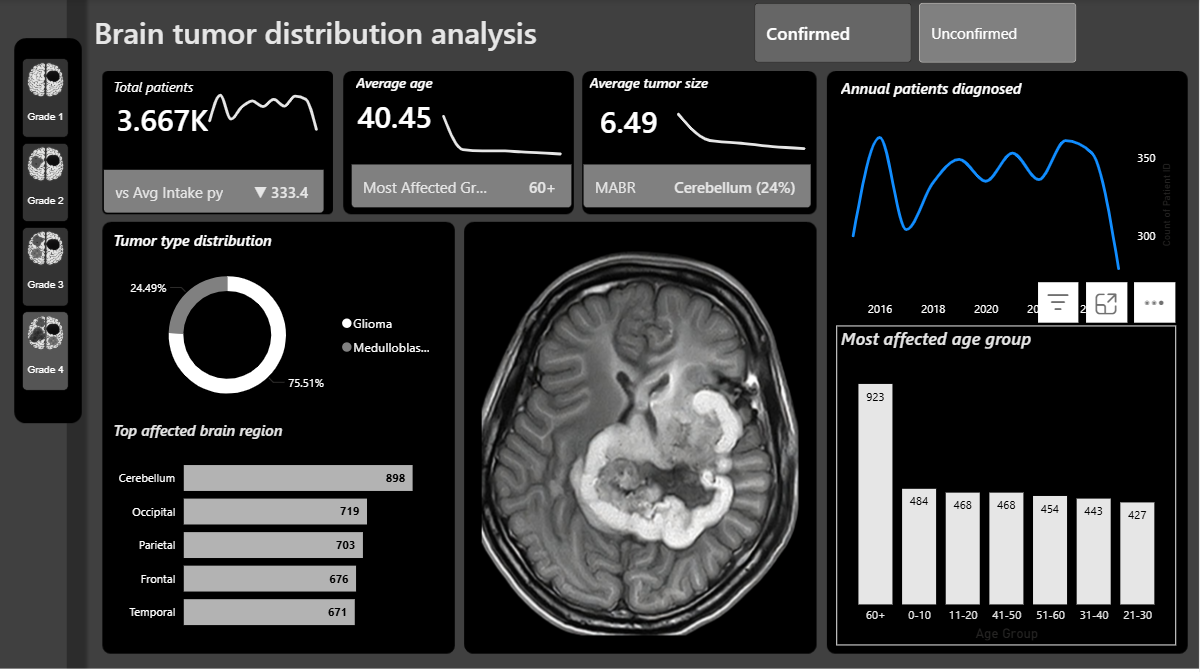

The page's visual inventory and layout, read from the dashboard file:
{"tool":"powerbi","page":{"name":"Page 1","canvas":[1280,720],"ordinal":0},"visuals":[{"type":"lineChart","fields":{"Category":["Brain Tumor Data.Date of Diagnosis.Variation.Date Hierarchy.Year"],"Y":["CountNonNull(Brain Tumor Data.Patient ID)"]},"box":[210,74,144,85],"z":0},{"type":"cardVisual","fields":{"Data":["Count(Brain Tumor Data.Patient ID)"]},"box":[97,79,187,97],"z":1000},{"type":"cardVisual","fields":{"Data":["Count(Brain Tumor Data.Patient ID)"]},"box":[82.6,84.5,292.9,173],"z":2000},{"type":"textbox","box":[118,78.6,202.5,55],"z":3000},{"type":"cardVisual","fields":{"Data":["Avg(Brain Tumor Data.Age)"]},"box":[353.9,74.7,188.7,98.3],"z":4000},{"type":"lineChart","fields":{"Y":["CountNonNull(Brain Tumor Data.Patient ID)"],"Category":["Brain Tumor Data.Age Group"]},"box":[460,106.2,151.4,68.8],"z":5000},{"type":"cardVisual","fields":{"Data":["Count(Brain Tumor Data.Patient ID)"]},"box":[348,78.6,292.9,173],"z":6000},{"type":"textbox","box":[375.5,74.7,292.9,59],"z":7000},{"type":"cardVisual","fields":{"Data":["Avg(Brain Tumor Data.Tumor Size (cm))"]},"box":[611.4,76.7,188.7,104.2],"z":8000},{"type":"lineChart","fields":{"Category":["Brain Tumor Data.Affected Brain Region"],"Y":["Sum(Brain Tumor Data.Tumor Size (cm))"]},"box":[705.8,106.2,171,68.8],"z":9000},{"type":"cardVisual","fields":{"Data":["Count(Brain Tumor Data.Patient ID)"]},"box":[595.7,78.6,300.8,173],"z":10000},{"type":"textbox","box":[625.2,74.7,232,59],"z":11000},{"type":"advancedSlicerVisual","fields":{"Values":["Brain Tumor Data.Histology Confirmation"]},"box":[800.2,0,355.8,74.7],"z":12000},{"type":"ChicletSlicer1448559807354","fields":{"Category":["Tumor Images.Tumor Grade"],"Image":["Tumor Images.Icon URL"]},"box":[17.7,57,64.9,379.4],"z":13000},{"type":"imageDB603108E3FF4EBFB8047F5653368E8C","fields":{"imageUrl":["Tumor Images.Image URL"]},"box":[509.2,257.5,348,432.5],"z":14000},{"type":"donutChart","title":"Tumor type distribution","fields":{"Category":["Brain Tumor Data.Tumor Type"],"Y":["CountNonNull(Brain Tumor Data.Patient ID)"]},"box":[118,247.7,357.8,202.5],"z":15000},{"type":"clusteredBarChart","title":"Top affected brain region","fields":{"Y":["CountNonNull(Brain Tumor Data.Patient ID)"],"Category":["Brain Tumor Data.Affected Brain Region"]},"box":[118,450.2,357.8,239.9],"z":16000},{"type":"lineChart","title":"Annual patients diagnosed","fields":{"Category":["Brain Tumor Data.Date of Diagnosis.Variation.Date Hierarchy.Year"],"Y2":["CountNonNull(Brain Tumor Data.Patient ID)"]},"box":[892.6,84.5,363.7,265.4],"z":17000},{"type":"clusteredColumnChart","title":"Most affected age group","fields":{"Category":["Brain Tumor Data.Age Group"],"Y":["CountNonNull(Brain Tumor Data.Patient ID)"]},"box":[893,350,364,341],"z":18000},{"type":"textbox","box":[96.3,9.8,524.9,64.9],"z":19000}]}

Visuals, with their boxes in screenshot pixels (x1, y1, x2, y2), scaled from the page's 1280x720 canvas onto the 1200x672 screenshot:
lineChart - Brain Tumor Data.Date of Diagnosis.Variation.Date Hierarchy.Year x CountNonNull(Brain Tumor Data.Patient ID): (197,69,332,148)
cardVisual - Count(Brain Tumor Data.Patient ID): (91,74,266,164)
cardVisual - Count(Brain Tumor Data.Patient ID): (77,79,352,240)
textbox: (111,73,300,125)
cardVisual - Avg(Brain Tumor Data.Age): (332,70,509,161)
lineChart - CountNonNull(Brain Tumor Data.Patient ID) x Brain Tumor Data.Age Group: (431,99,573,163)
cardVisual - Count(Brain Tumor Data.Patient ID): (326,73,601,235)
textbox: (352,70,627,125)
cardVisual - Avg(Brain Tumor Data.Tumor Size (cm)): (573,72,750,169)
lineChart - Brain Tumor Data.Affected Brain Region x Sum(Brain Tumor Data.Tumor Size (cm)): (662,99,822,163)
cardVisual - Count(Brain Tumor Data.Patient ID): (558,73,840,235)
textbox: (586,70,804,125)
advancedSlicerVisual - Brain Tumor Data.Histology Confirmation: (750,0,1084,70)
ChicletSlicer1448559807354 - Tumor Images.Tumor Grade x Tumor Images.Icon URL: (17,53,77,407)
imageDB603108E3FF4EBFB8047F5653368E8C - Tumor Images.Image URL: (477,240,804,644)
"Tumor type distribution" donutChart: (111,231,446,420)
"Top affected brain region" clusteredBarChart: (111,420,446,644)
"Annual patients diagnosed" lineChart: (837,79,1178,327)
"Most affected age group" clusteredColumnChart: (837,327,1178,645)
textbox: (90,9,582,70)
